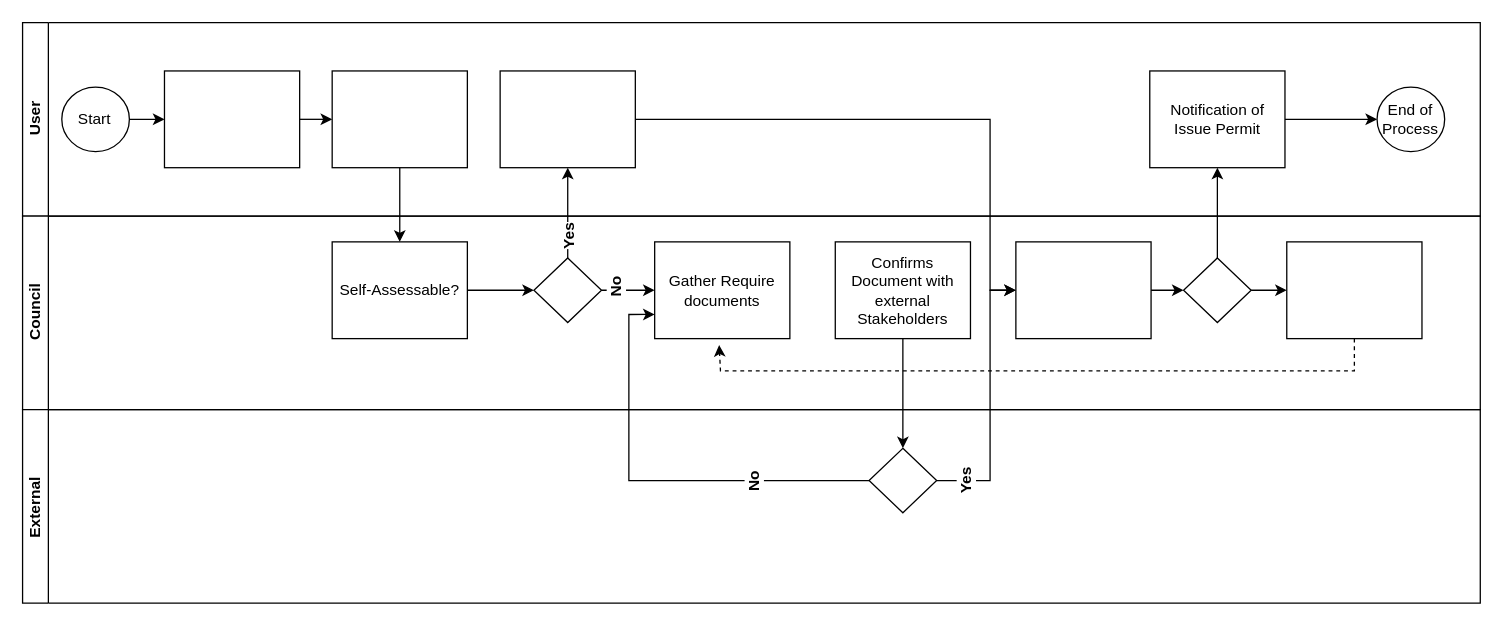
The diagram is 1503 pixels wide and 626 high, and some of its shapes have lost their labels. Each missing label, with the centre of its shape:
"Advise Applicant on refusion permit" goes at (x=1353, y=290).
"Check available places and their conditions or capacities" goes at (x=231, y=119).
"Confirmation and Fee Payment" goes at (x=567, y=119).
"Issue Permit" goes at (x=1083, y=290).
"Submits form Application and system evaluates responses" goes at (x=399, y=119).
